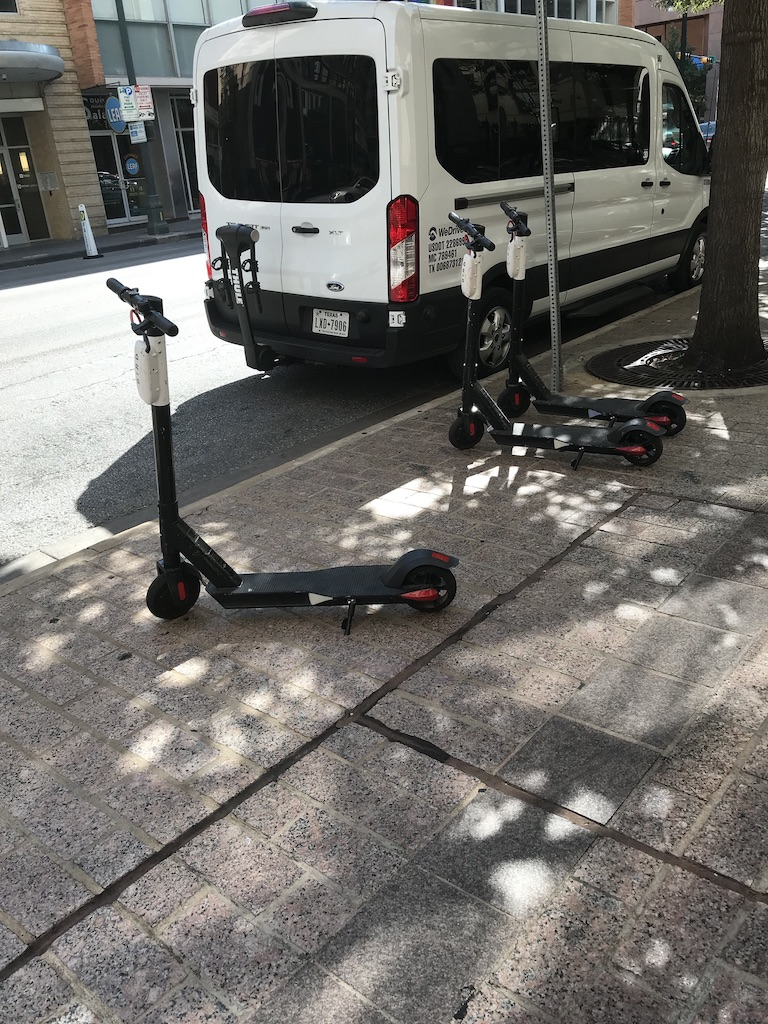scooter: (107, 278, 458, 617), (439, 212, 656, 464), (500, 202, 688, 432)
